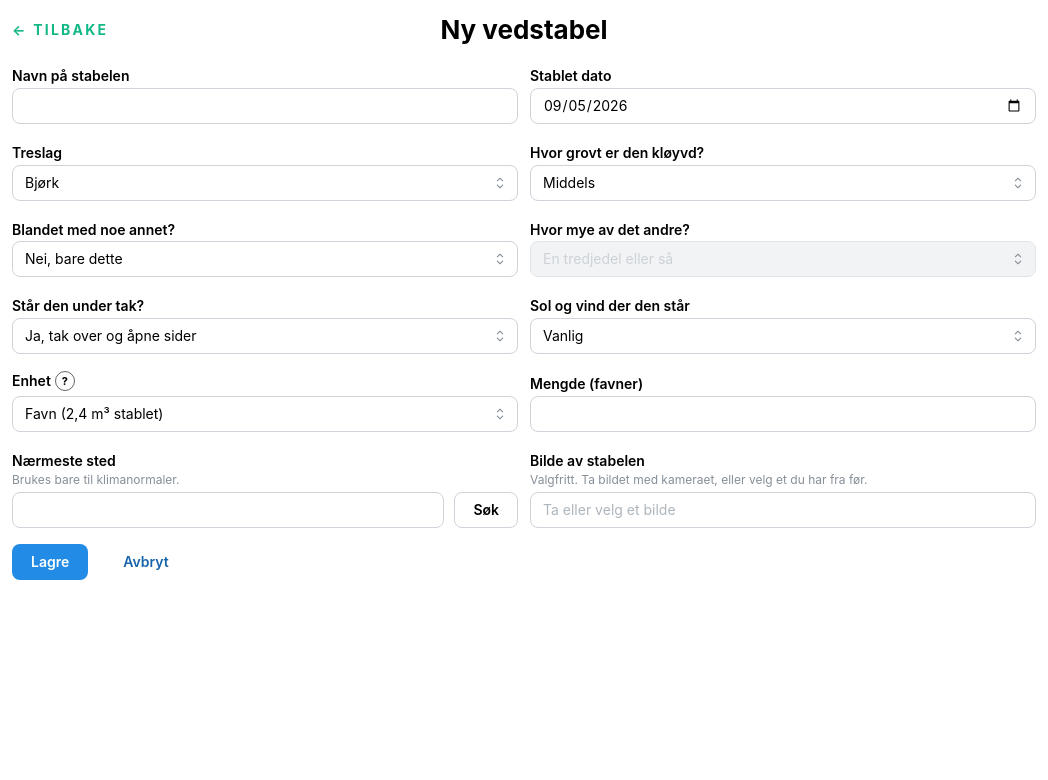
Scenario: AddStackForm › will not save before a place has been picked
Type "Bjørk ved veggen" into the field labelled "Navn på stabelen". click: [265, 106]
box: [12,88,518,124]
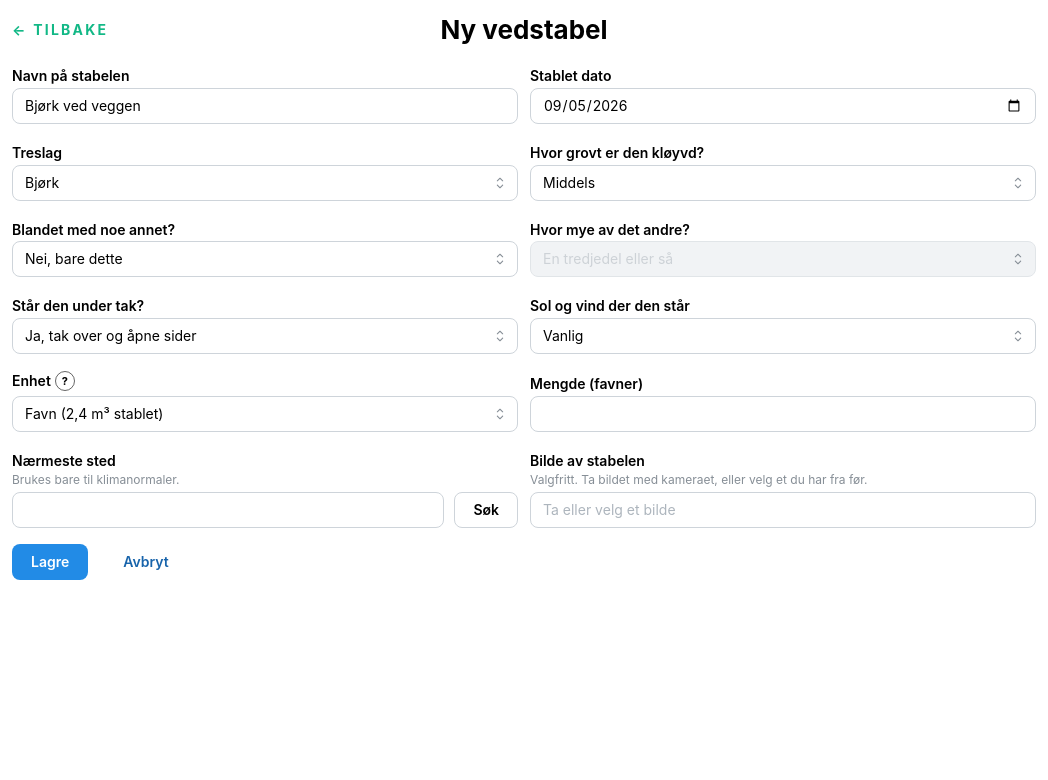
Click the button "Lagre". click: [50, 562]
box: [12,544,88,580]
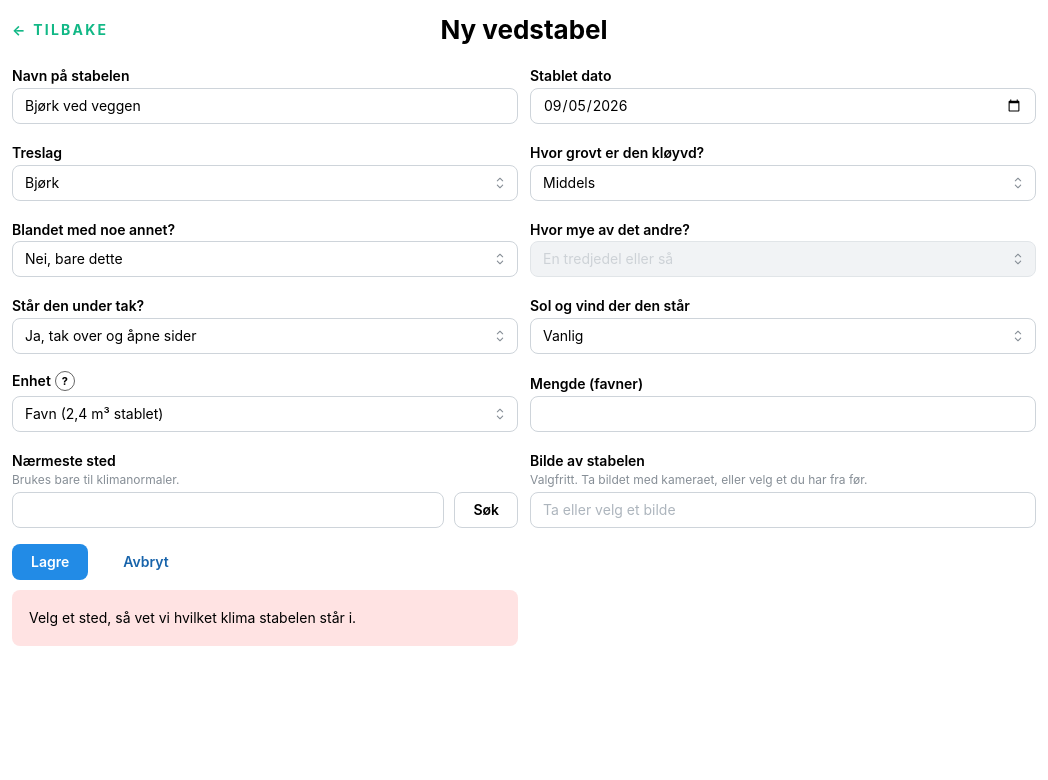
Now the text "Velg et sted, så vet vi hvilket klima stabelen står i." is shown, box [29,609,356,626]
